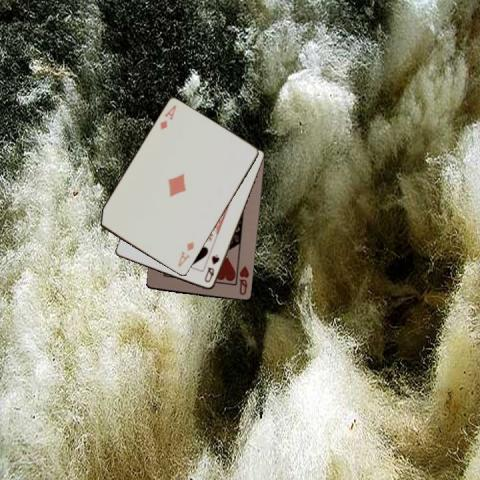Ad: (157, 102, 178, 131), (175, 238, 195, 268)
Qh: (236, 263, 250, 297)
Qs: (201, 252, 221, 284)
